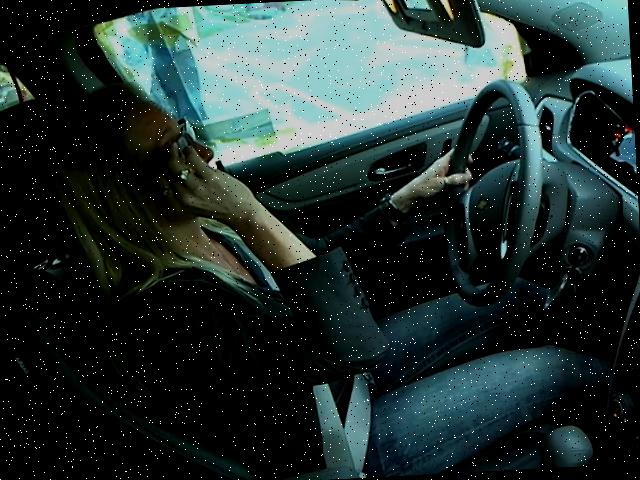c6 - Hair and Makeup: (34, 48, 566, 394)
